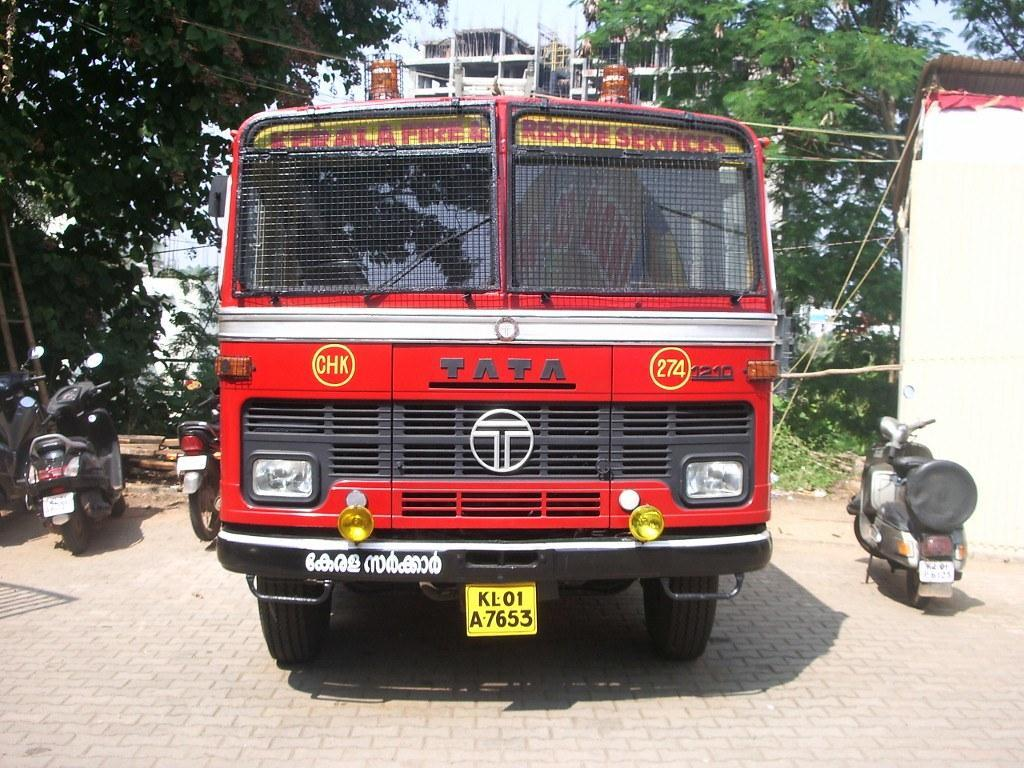Fire-engine: (197, 46, 785, 674), (370, 55, 406, 109), (600, 58, 634, 104)
